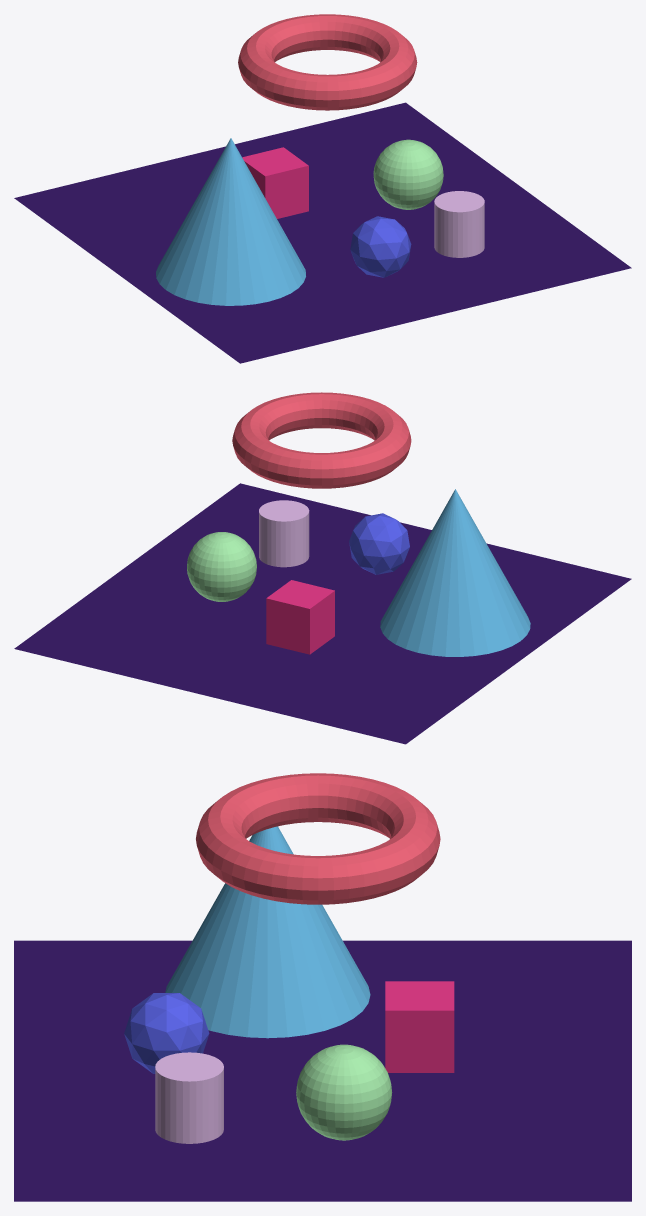
File: simplescene.glb
The picture shows the model from 3 angles, top to bottom: view 1: azimuth 30°, elevation 25°; view 2: azimuth 150°, elevation 25°; view 3: azimuth 270°, elevation 25°; orthographic projection. The views are drawn at different scales.
Visible parts, largest first — view 1: Plane, Cone, Torus, Sphere, Cube, Cylinder, Icosphere; view 2: Plane, Cone, Torus, Cube, Sphere, Cylinder, Icosphere; view 3: Plane, Torus, Cone, Sphere, Cube, Cylinder, Icosphere.
Boxes of the visible parts, x1=… form: Plane: x1=14, y1=102, x2=631, y2=363; Cone: x1=156, y1=138, x2=305, y2=305; Torus: x1=238, y1=14, x2=417, y2=110; Sphere: x1=373, y1=139, x2=443, y2=209; Cube: x1=242, y1=147, x2=308, y2=218; Cylinder: x1=434, y1=191, x2=484, y2=257; Icosphere: x1=350, y1=216, x2=411, y2=277; Plane: x1=14, y1=483, x2=631, y2=744; Cone: x1=380, y1=489, x2=530, y2=656; Torus: x1=232, y1=392, x2=411, y2=488; Cube: x1=266, y1=580, x2=334, y2=654; Sphere: x1=187, y1=532, x2=256, y2=601; Cylinder: x1=259, y1=500, x2=309, y2=567; Icosphere: x1=349, y1=513, x2=409, y2=574; Plane: x1=14, y1=940, x2=631, y2=1201; Torus: x1=196, y1=773, x2=440, y2=904; Cone: x1=165, y1=826, x2=370, y2=1038; Sphere: x1=296, y1=1044, x2=392, y2=1140; Cube: x1=385, y1=981, x2=454, y2=1072; Cylinder: x1=155, y1=1052, x2=223, y2=1143; Icosphere: x1=124, y1=993, x2=209, y2=1073.
Bounding box in the file's own units: 17.94 × 8.3 × 17.94.
